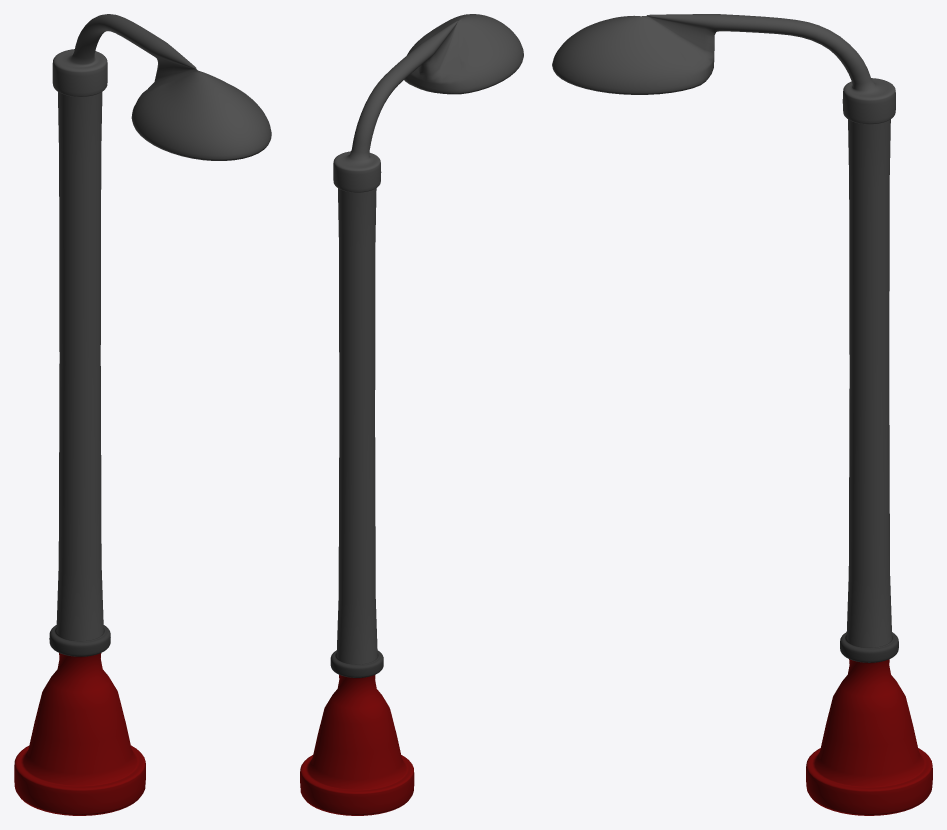
File: streetlight.fbx
3 renders of one model, left to right at view 1: azimuth 30°, elevation 25°; view 2: azimuth 150°, elevation 25°; view 3: azimuth 270°, elevation 25°, orthographic. The views are drawn at different scales.
Parts seen in each view (by area): view 1: pSphere4; view 2: pSphere4; view 3: pSphere4.
Part boxes in pixels (bbox=[...]): pSphere4: bbox=[14, 14, 271, 815]; pSphere4: bbox=[300, 14, 523, 815]; pSphere4: bbox=[552, 14, 932, 815].
Size of the model in its own units: 4.32 by 29.09 by 12.95.
